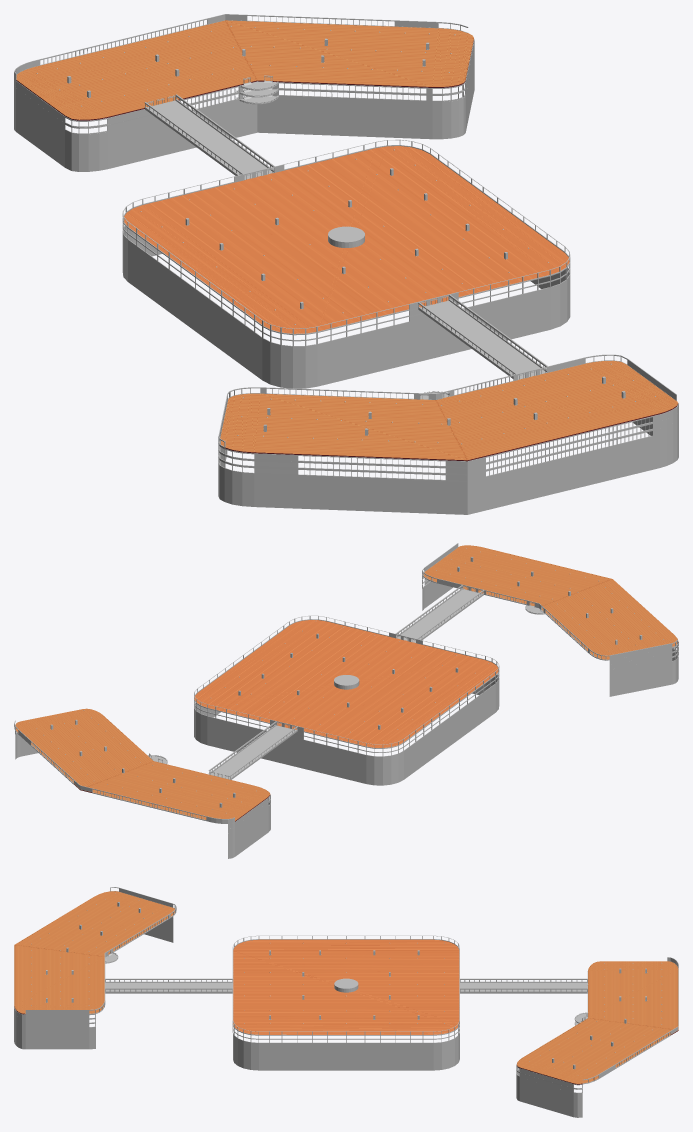
The model's file is cs_office.fbx.
The picture shows the model from 3 angles, top to bottom: view 1: azimuth 30°, elevation 25°; view 2: azimuth 150°, elevation 25°; view 3: azimuth 270°, elevation 25°; orthographic projection. The views are drawn at different scales.
Parts seen in each view (by area): view 1: cs_office; view 2: cs_office; view 3: cs_office.
Part boxes in pixels (bbox=[...]): cs_office: bbox=[14, 14, 678, 514]; cs_office: bbox=[14, 543, 678, 858]; cs_office: bbox=[14, 887, 678, 1117].
Size of the model in its own units: 65538 by 6216 by 95336.
